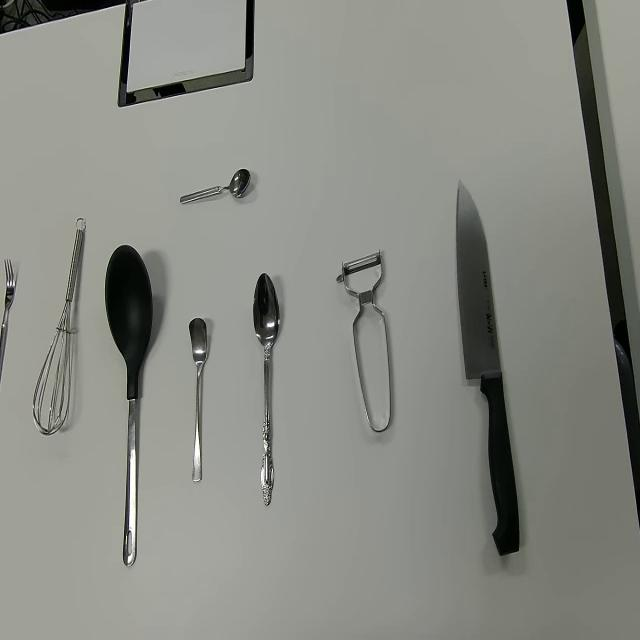Desert-Spoon: (252, 272, 281, 508)
Dinner-Fork: (0, 258, 15, 373)
Kitchen-Knife: (455, 178, 521, 558)
Peeler: (336, 248, 392, 433)
Serving-Spoon: (104, 243, 154, 567)
Tea-Spoon: (188, 316, 208, 484), (180, 167, 252, 206)
Whisk: (32, 217, 86, 436)
